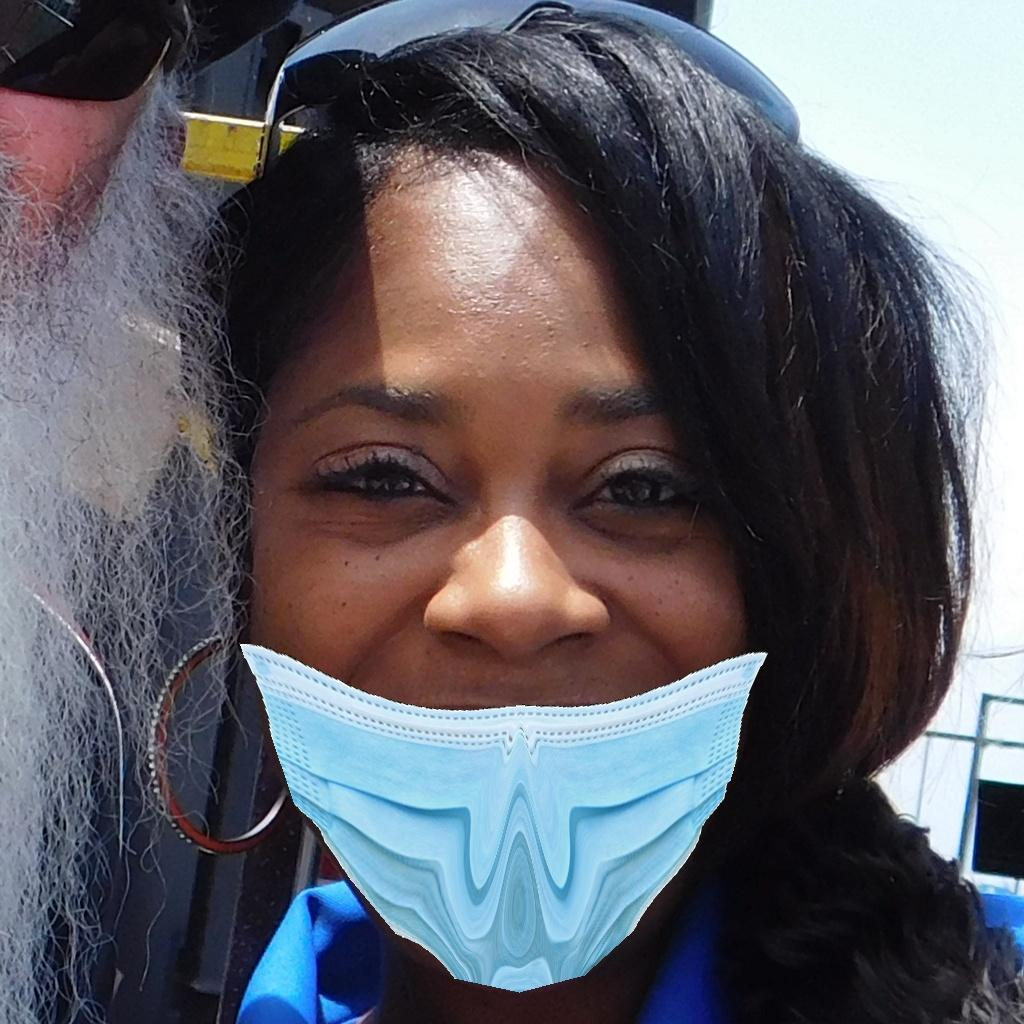Máscara Incorreta: (226, 307, 771, 957)
